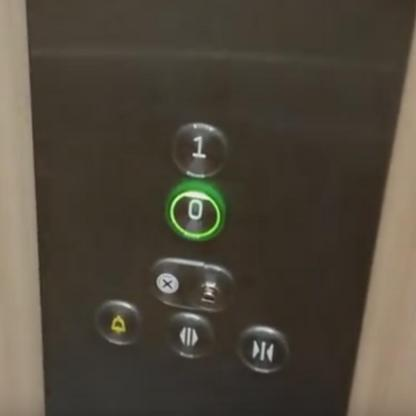0: (164, 180, 226, 242)
1: (170, 120, 229, 179)
alarm: (93, 298, 143, 350)
close: (234, 322, 290, 377)
open: (162, 312, 214, 362)
stop: (147, 254, 239, 312)
